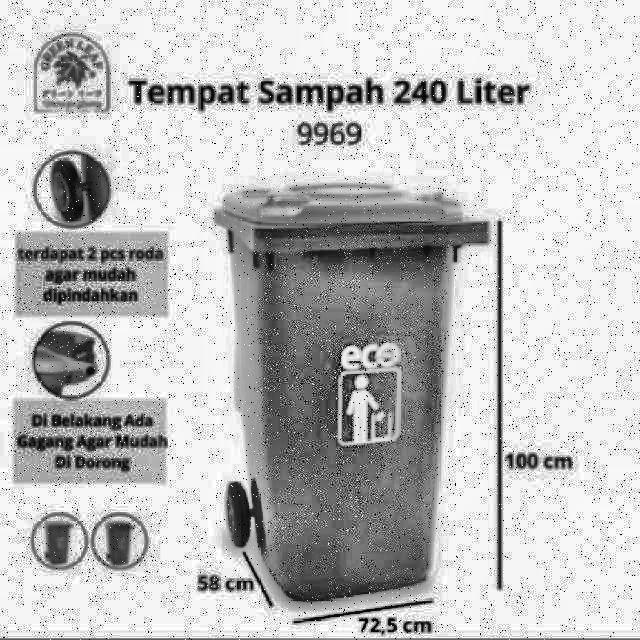Dustbin: (208, 180, 490, 605)
